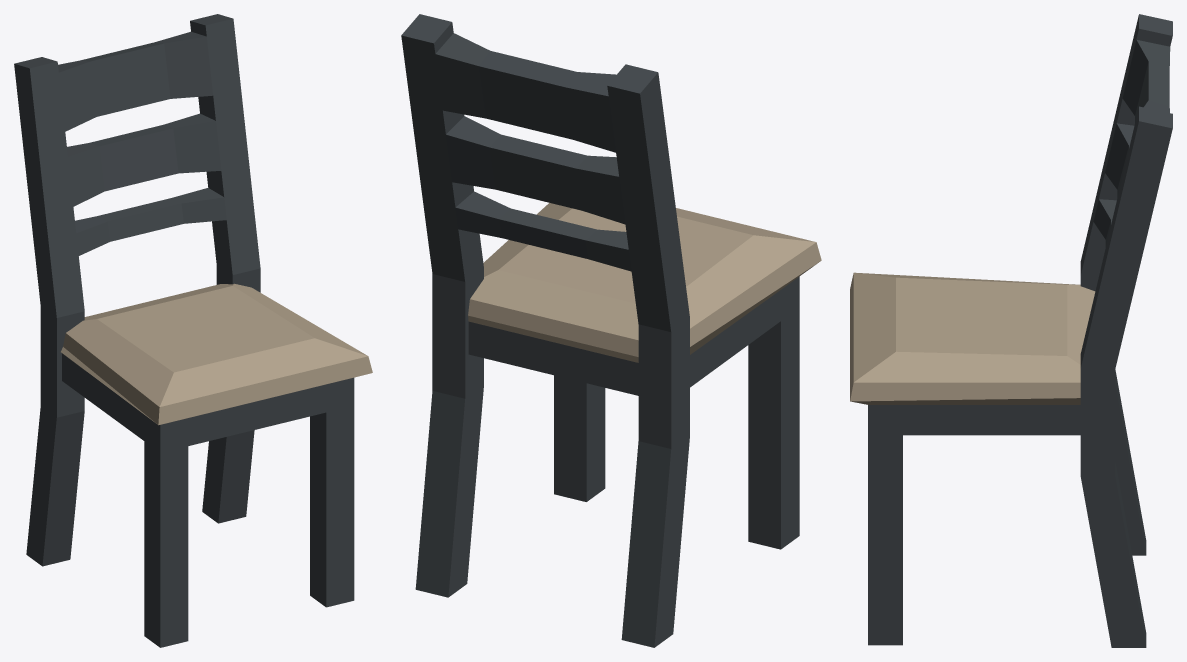
File: SM_Prop_DiningChair_02.fbx
3 views of the same model, side by side, from view 1: azimuth 30°, elevation 25°; view 2: azimuth 150°, elevation 25°; view 3: azimuth 270°, elevation 25° (orthographic). The views are drawn at different scales.
Parts seen in each view (by area): view 1: SM_Prop_DiningChair_02; view 2: SM_Prop_DiningChair_02; view 3: SM_Prop_DiningChair_02.
Boxes of the visible parts, x1,y1,x2,y2 form: SM_Prop_DiningChair_02: [14, 14, 372, 647]; SM_Prop_DiningChair_02: [401, 14, 821, 647]; SM_Prop_DiningChair_02: [850, 14, 1172, 647].
Bounding box in the file's own units: 55.36 × 121 × 66.92.
